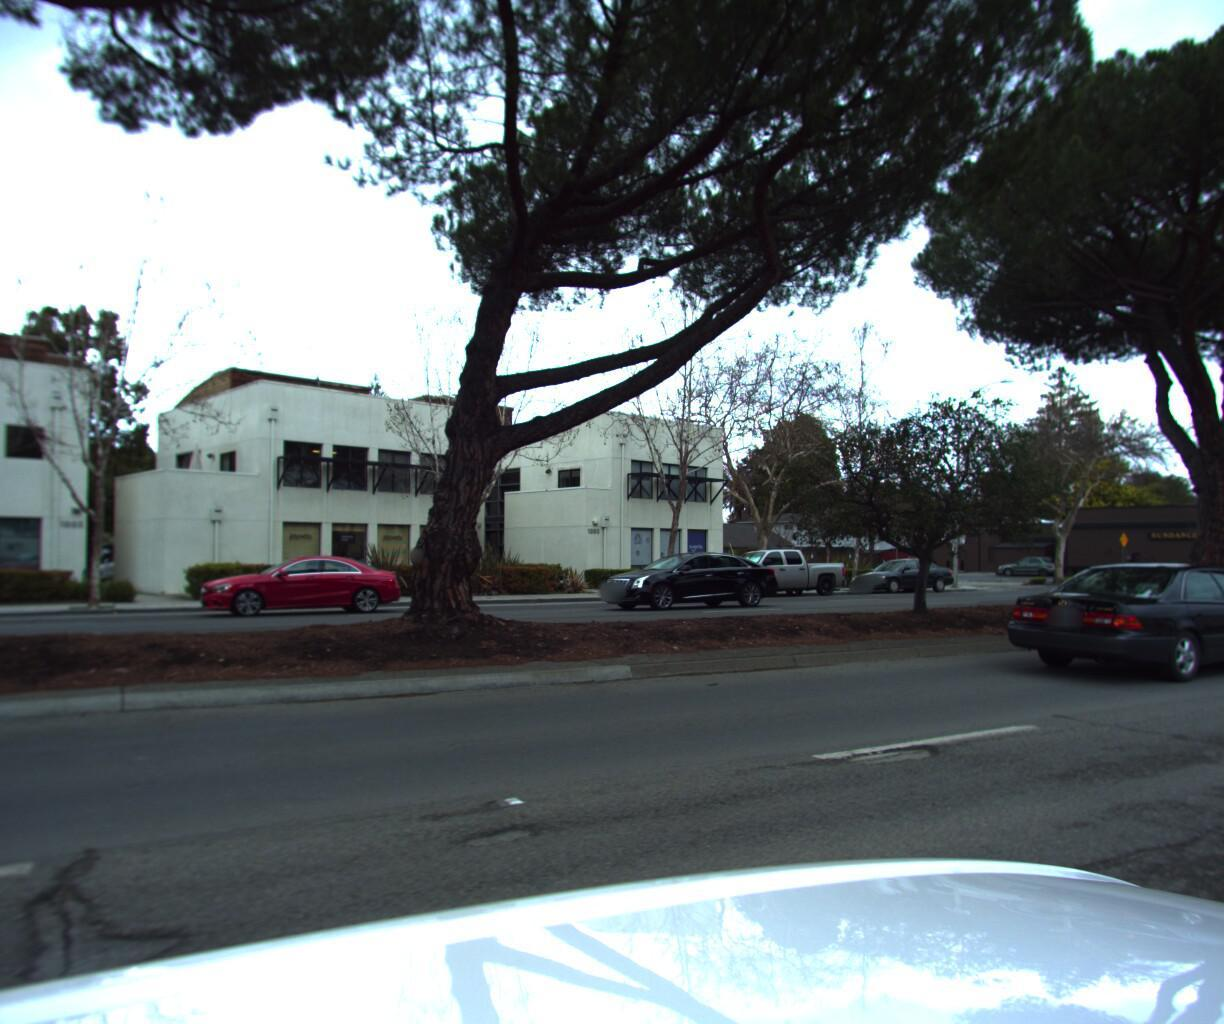car: (984, 558, 1224, 686), (187, 549, 422, 619), (582, 540, 789, 607), (690, 544, 846, 600), (839, 553, 953, 594)
